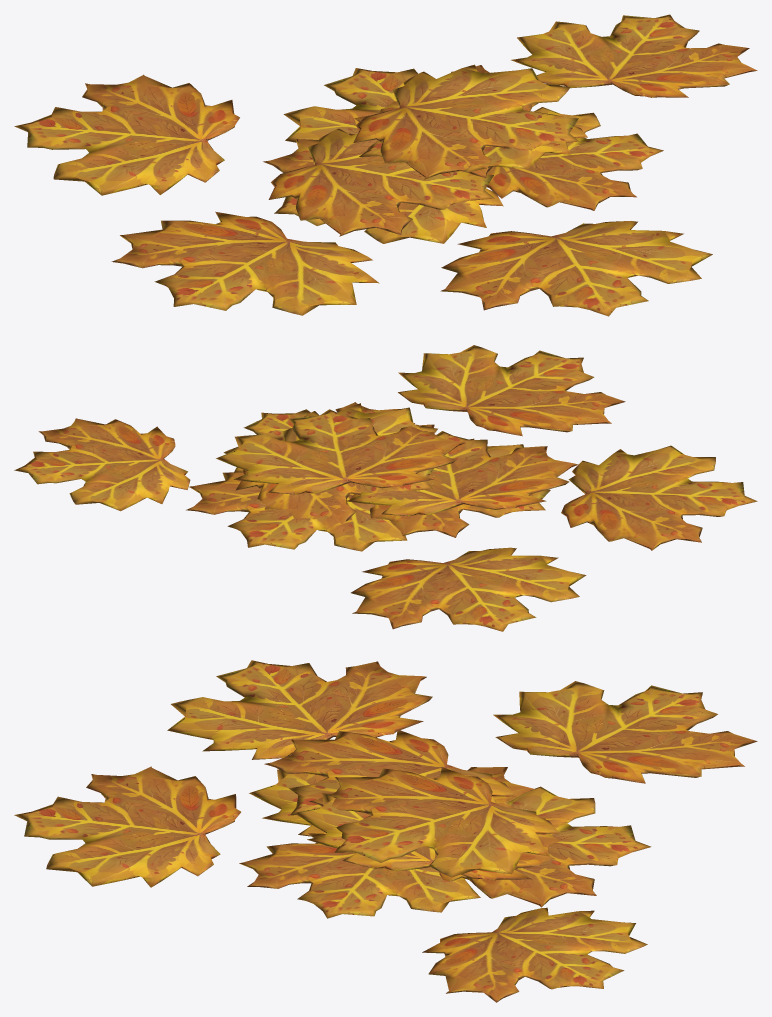
The model's file is leafMPileMesh.fbx.
3 views of the same model, one above another, from view 1: azimuth 30°, elevation 25°; view 2: azimuth 150°, elevation 25°; view 3: azimuth 270°, elevation 25° (orthographic). The views are drawn at different scales.
Parts seen in each view (by area): view 1: Mesh_0.011; view 2: Mesh_0.011; view 3: Mesh_0.011.
Boxes of the visible parts, <box> form: Mesh_0.011: <box>14,14,757,316</box>; Mesh_0.011: <box>14,345,757,631</box>; Mesh_0.011: <box>14,660,757,1002</box>.
Size of the model in its own units: 319 by 16.47 by 293.
